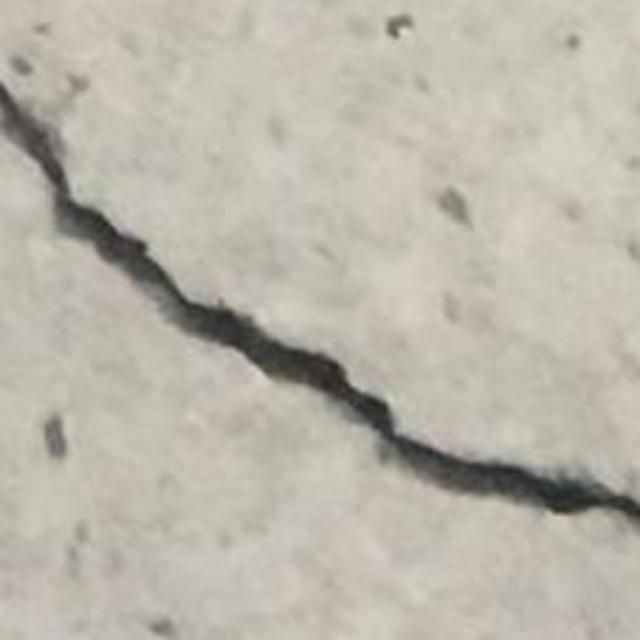crack: (0, 82, 639, 524)
